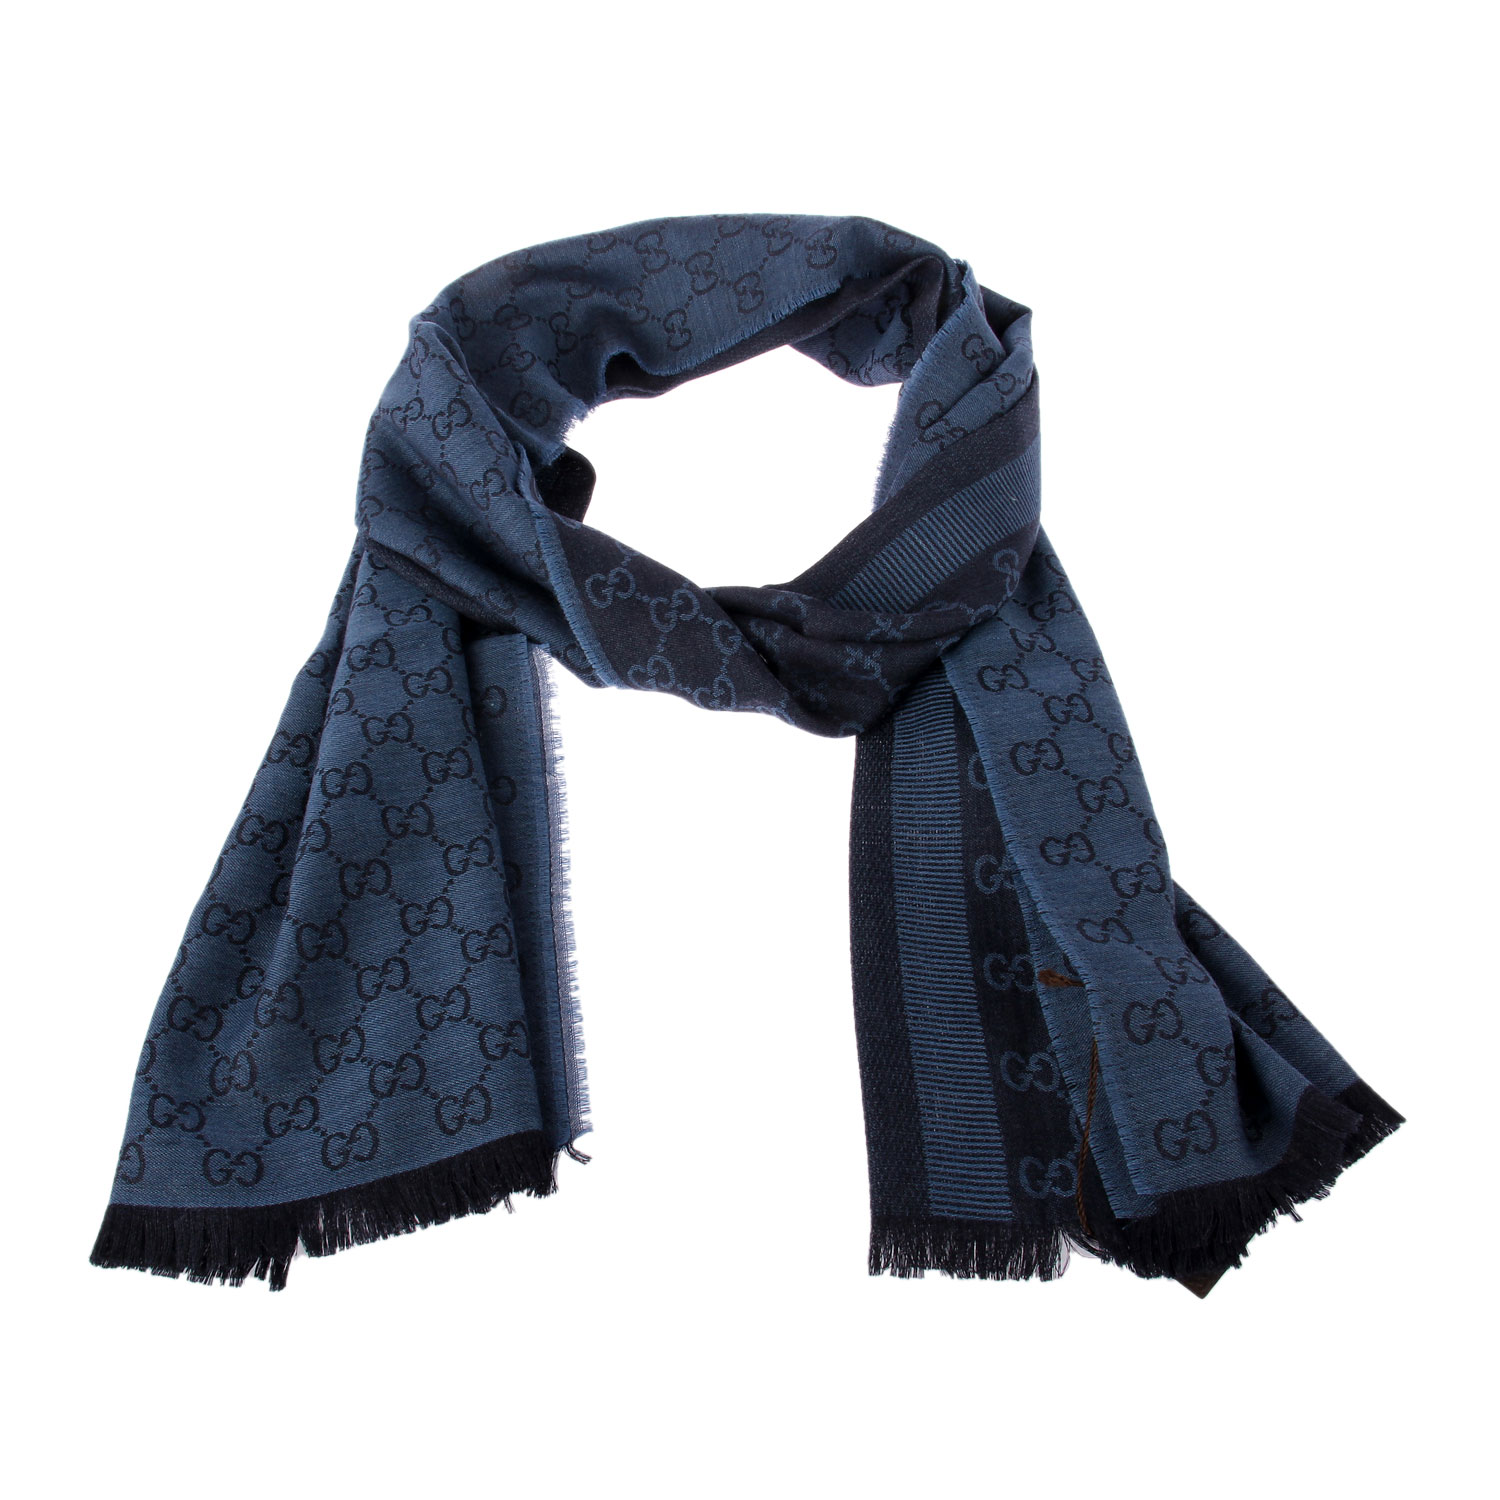flexible: (87, 207, 1405, 1310)
